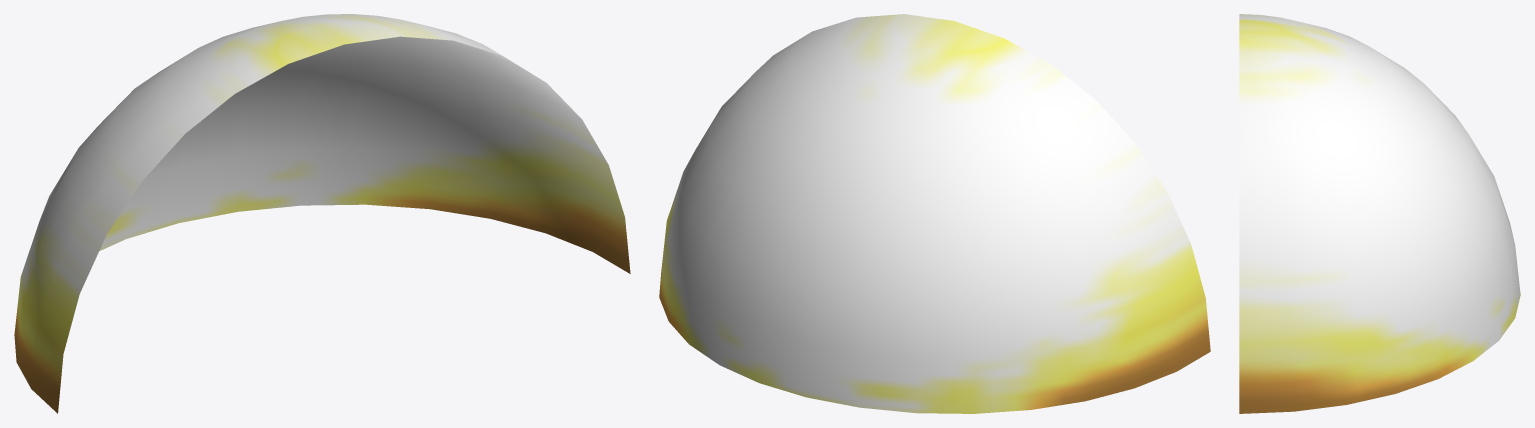
Rendered from Gedanghudun.FBX.
The picture shows the model from 3 angles, left to right: view 1: azimuth 30°, elevation 25°; view 2: azimuth 150°, elevation 25°; view 3: azimuth 270°, elevation 25°; orthographic projection. The views are drawn at different scales.
Visible parts, largest first — view 1: Sphere001; view 2: Sphere001; view 3: Sphere001.
Part boxes in pixels (bbox=[...]): Sphere001: bbox=[14, 14, 630, 413]; Sphere001: bbox=[659, 14, 1210, 413]; Sphere001: bbox=[1239, 14, 1520, 413].
Size of the model in its own units: 92.4 by 46.2 by 46.2.
1 material, 1 textured.
